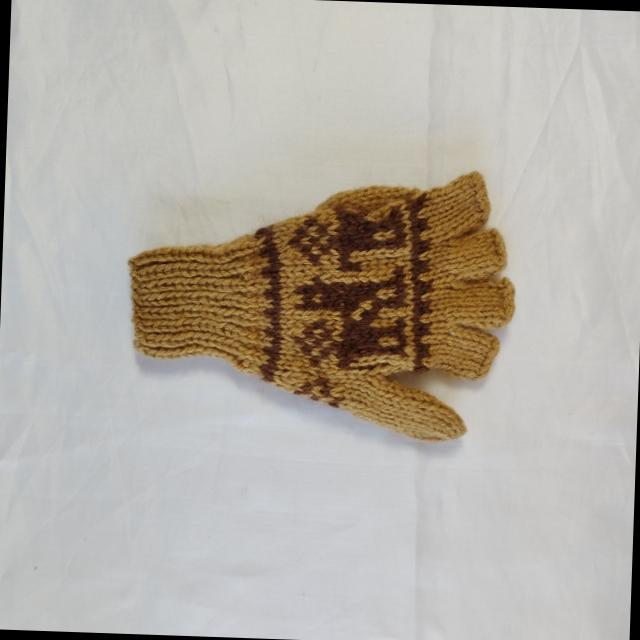Guante: (121, 157, 520, 446)
